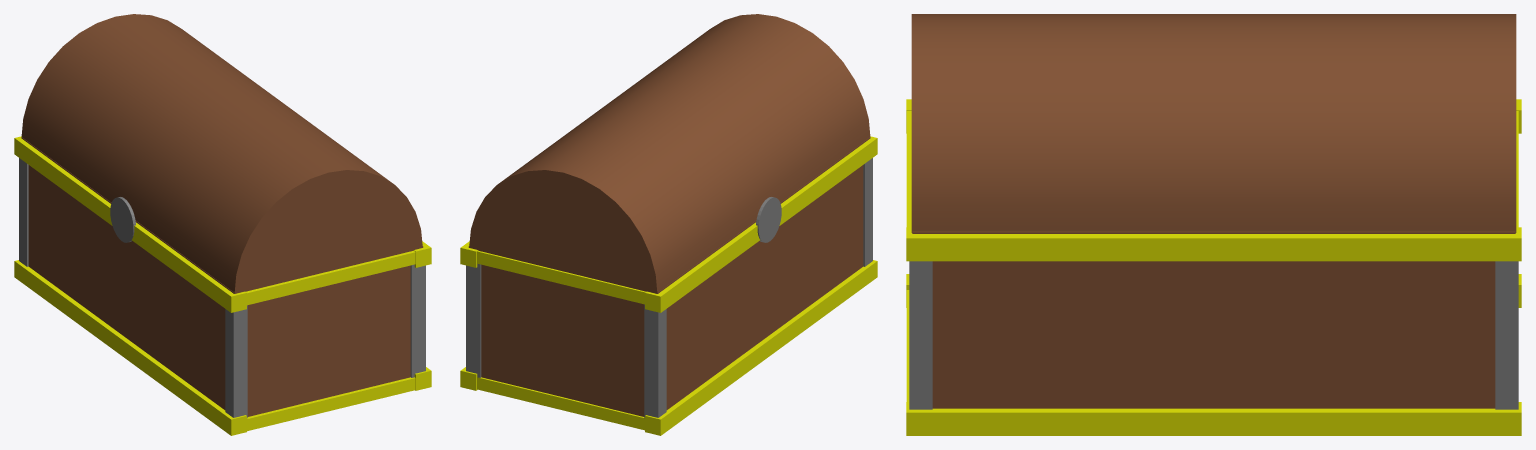
The model's file is skrzynia.glb.
The picture shows the model from 3 angles, left to right: view 1: azimuth 30°, elevation 25°; view 2: azimuth 150°, elevation 25°; view 3: azimuth 270°, elevation 25°; orthographic projection. The views are drawn at different scales.
Parts seen in each view (by area): view 1: Cylinder, Cube.001, Cube.004, Cube.005, Cylinder.001; view 2: Cylinder, Cube.001, Cube.004, Cube.005, Cylinder.001; view 3: Cylinder, Cube.001, Cube.004, Cube.005.
Boxes of the visible parts, x1,y1,x2,y2 form: Cylinder: (21, 14, 422, 293); Cube.001: (21, 137, 423, 416); Cube.004: (14, 136, 431, 435); Cube.005: (19, 158, 425, 418); Cylinder.001: (110, 197, 135, 242); Cylinder: (469, 14, 870, 293); Cube.001: (468, 137, 870, 416); Cube.004: (460, 136, 877, 435); Cube.005: (466, 158, 872, 418); Cylinder.001: (756, 197, 781, 242); Cylinder: (911, 14, 1516, 232); Cube.001: (912, 231, 1515, 408); Cube.004: (906, 99, 1521, 435); Cube.005: (909, 261, 1518, 409).
Size of the model in its own units: 1.81 by 2.04 by 3.37.
